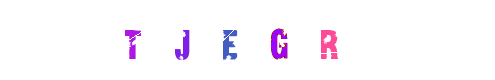E: (207, 0, 287, 80)
G: (238, 0, 318, 80)
J: (188, 0, 268, 80)
R: (268, 0, 348, 80)
T: (165, 0, 245, 80)
